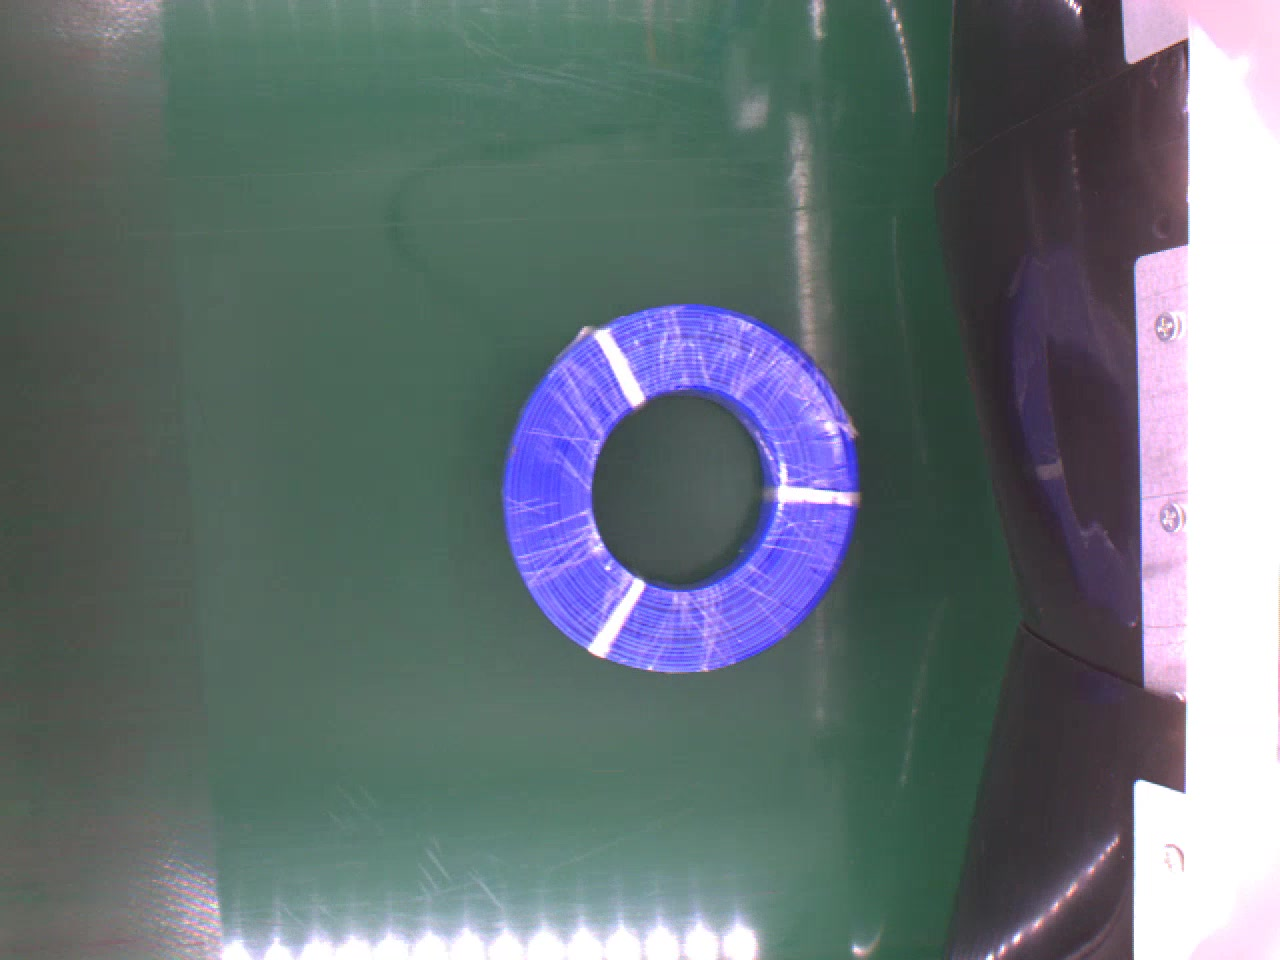blue: (494, 301, 865, 679)
